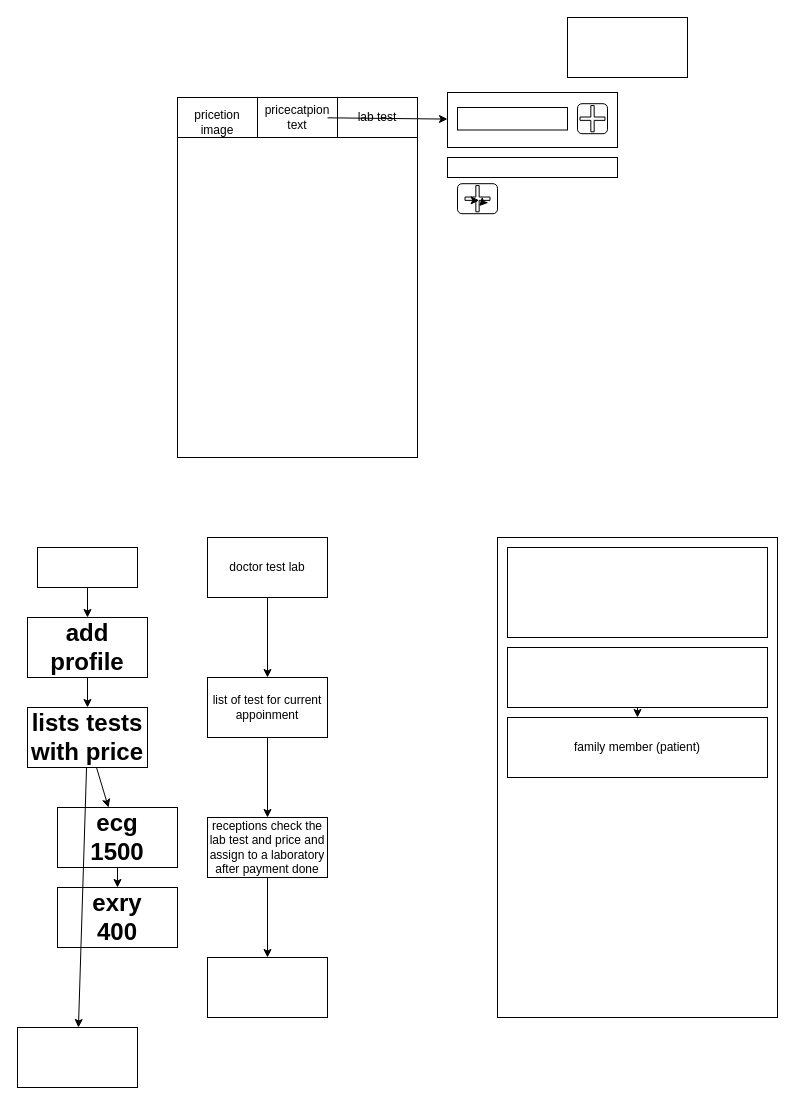
The diagram is 795 pixels wide and 1105 high, and some of its shapes have lost their labels. Here are the shapes that lost their labels. From the top down, the box of each, then its label:
(36, 546, 138, 588): lab
(506, 546, 768, 638): user which has login
(506, 646, 768, 708): paitnent details which has login user
(206, 956, 328, 1018): lab will be upload report after test result
(16, 1026, 138, 1088): assign list of test
